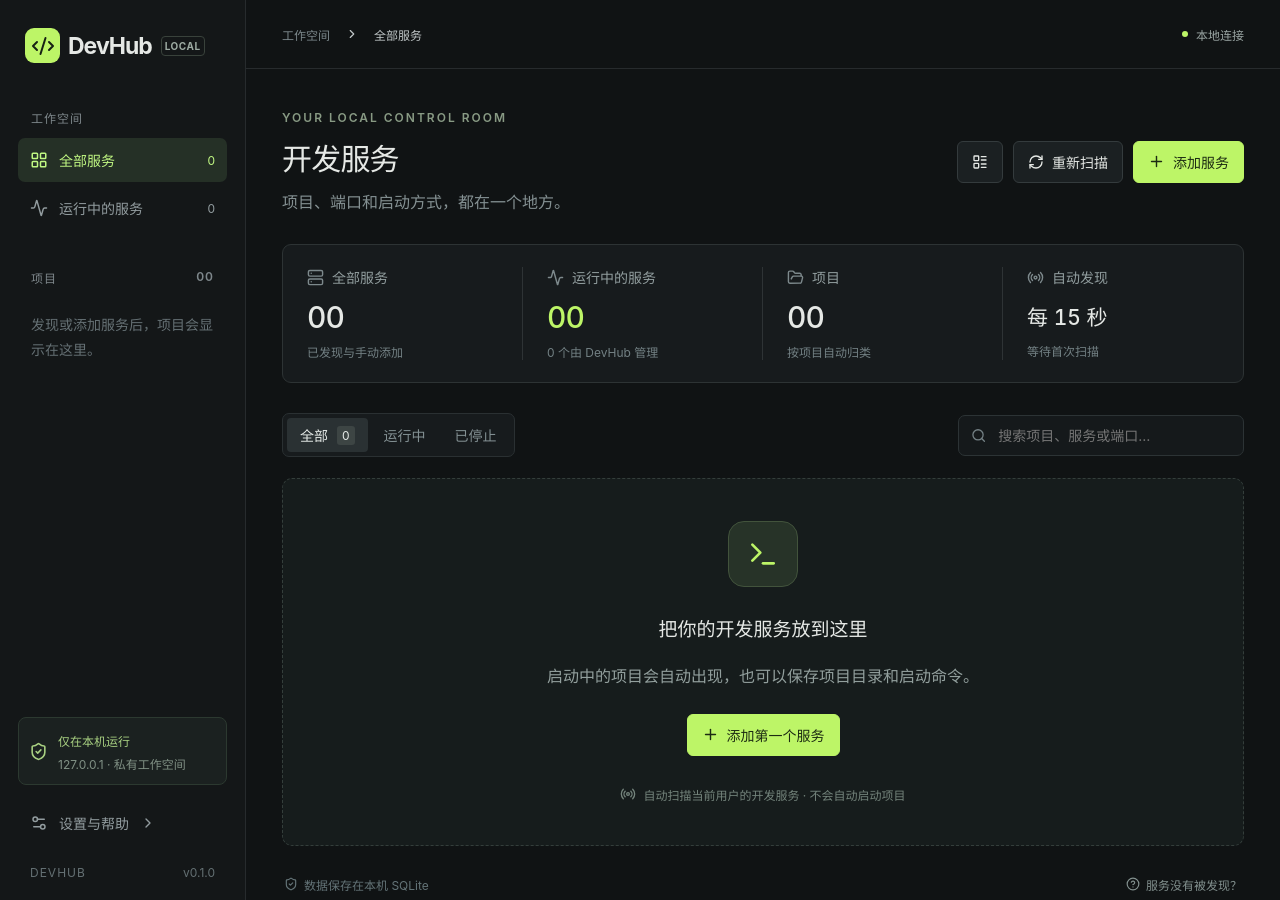
it: opens settings with discovery rule fields
Expected: the text "每 15 秒" is shown, [1027,305,1108,330]
Step 1. Click the button "设置与帮助" → coordinates (122, 823), box [18,801,227,845]
(page scrolled)
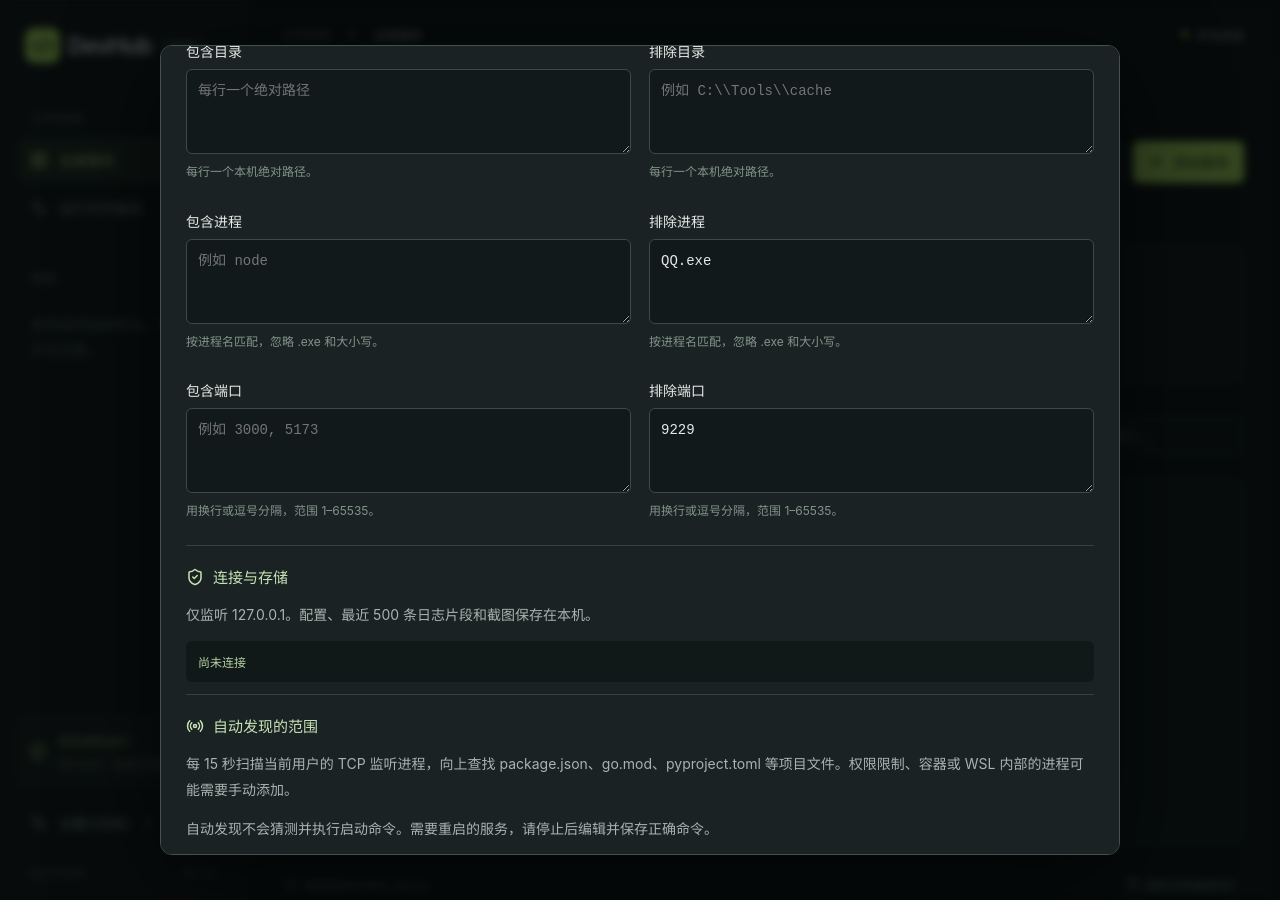
Expected: the text box with placeholder "例如 QQ.exe" holds "QQ.exe", [649,239,1094,324]
Expected: the text box with placeholder "例如 9229, 4301" holds "9229", [649,408,1094,493]
